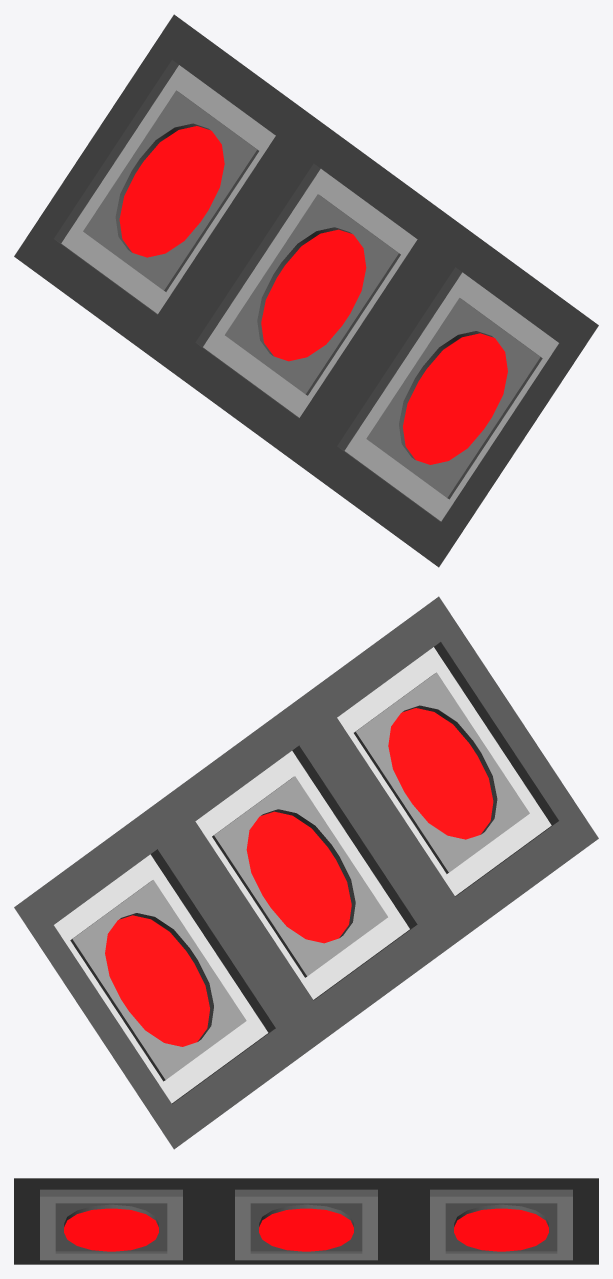
File: LucesLlaves.fbx
3 renders of one model, top to bottom at view 1: azimuth 30°, elevation 25°; view 2: azimuth 150°, elevation 25°; view 3: azimuth 270°, elevation 25°, orthographic. The views are drawn at different scales.
Parts seen in each view (by area): view 1: Cube.041; view 2: Cube.041; view 3: Cube.041.
Part boxes in pixels (<box>): Cube.041: <box>14,14,598,567</box>; Cube.041: <box>14,596,598,1149</box>; Cube.041: <box>14,1178,598,1264</box>.
Bounding box in the file's own units: 3.8 × 4.62 × 17.5.
